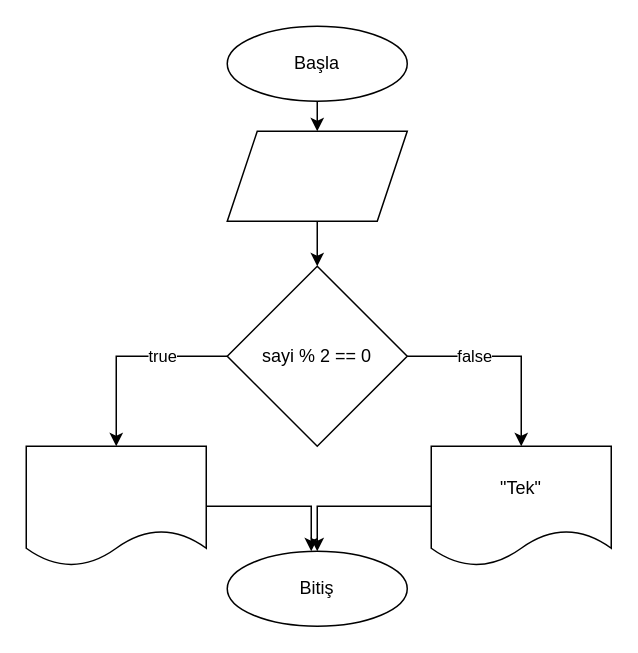
Image size: 638x653. Some labels were removed from this diagram. Here are the shapes that lost their labels. From the top down, the centre of each, then its label:
(316,175): let sayi
(115,505): "Çift"
